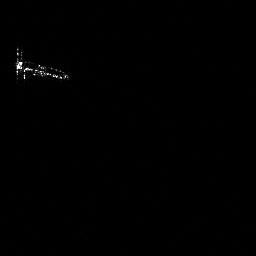ship: (10, 43, 74, 83)
